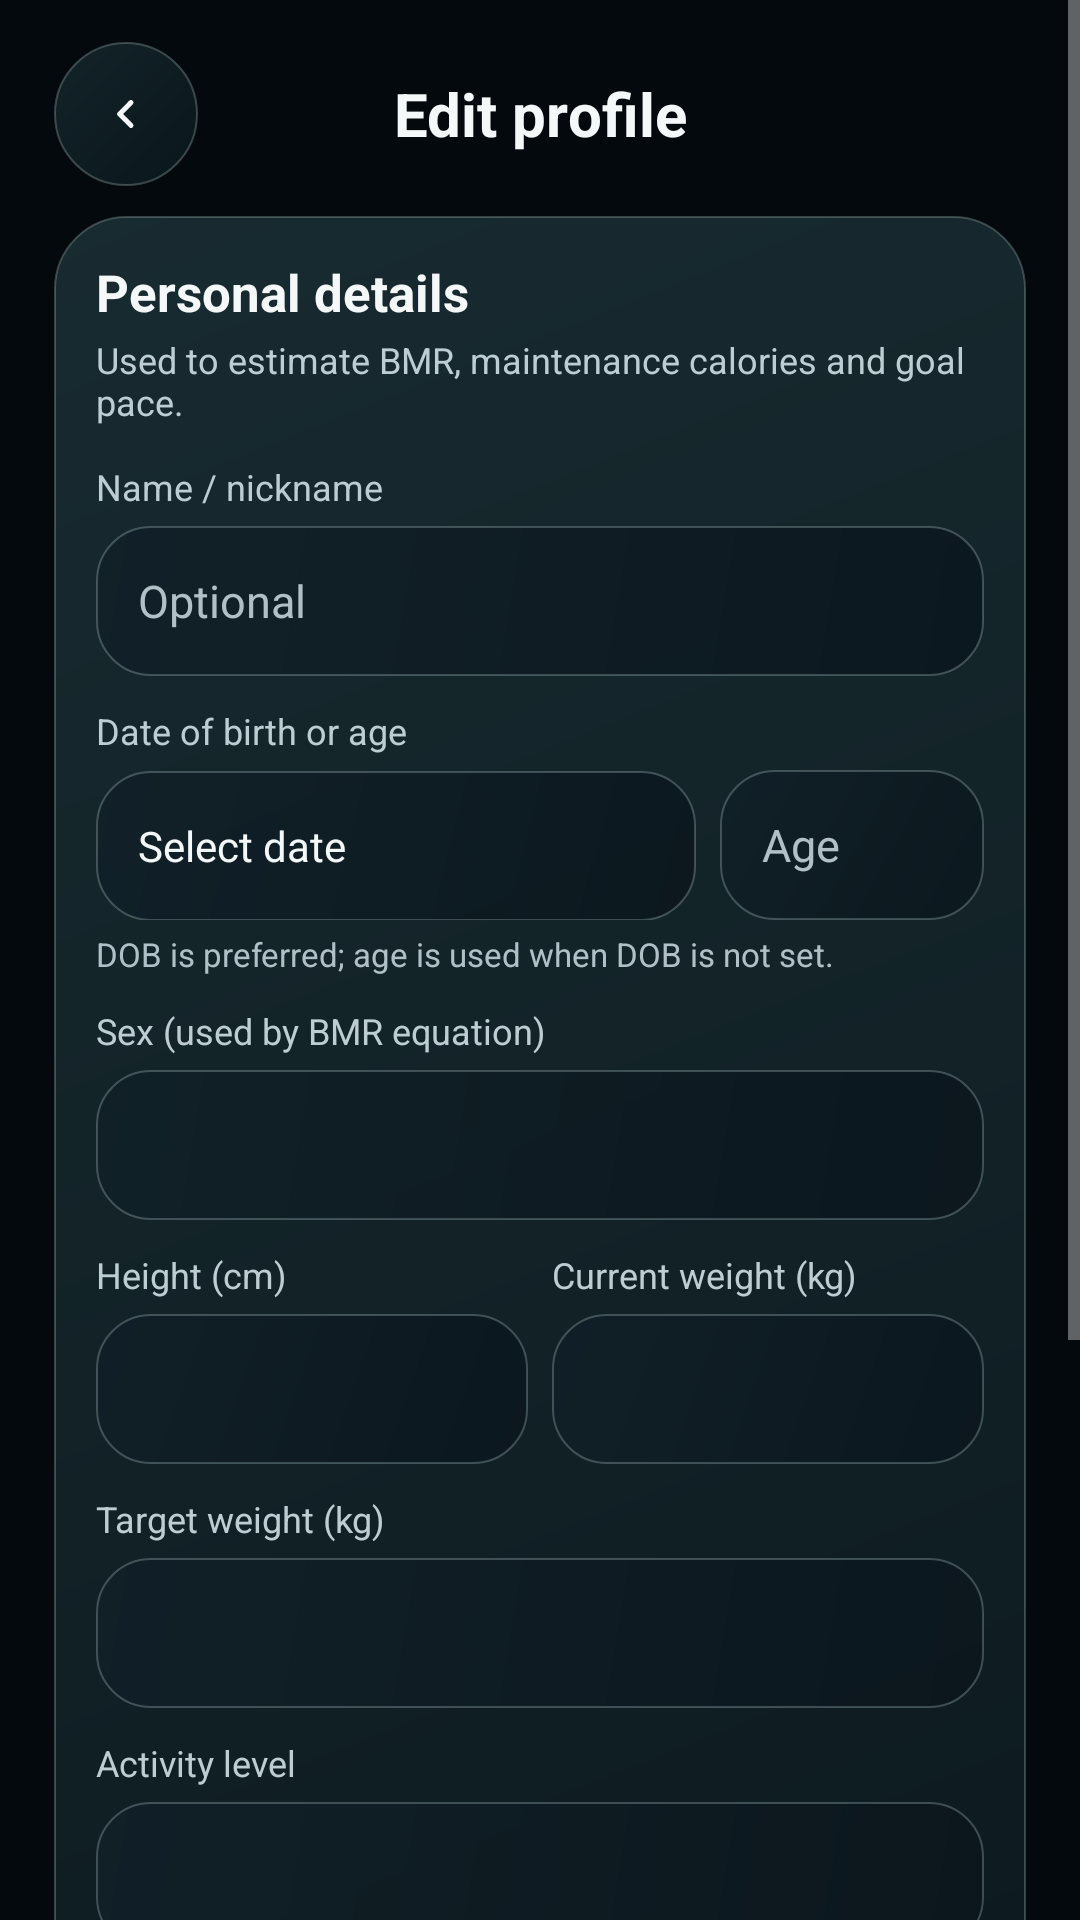

Icons on this 1080px×1920px Android screen, each with the point to tap as point (x, y):
arrow back: point (125, 114)
